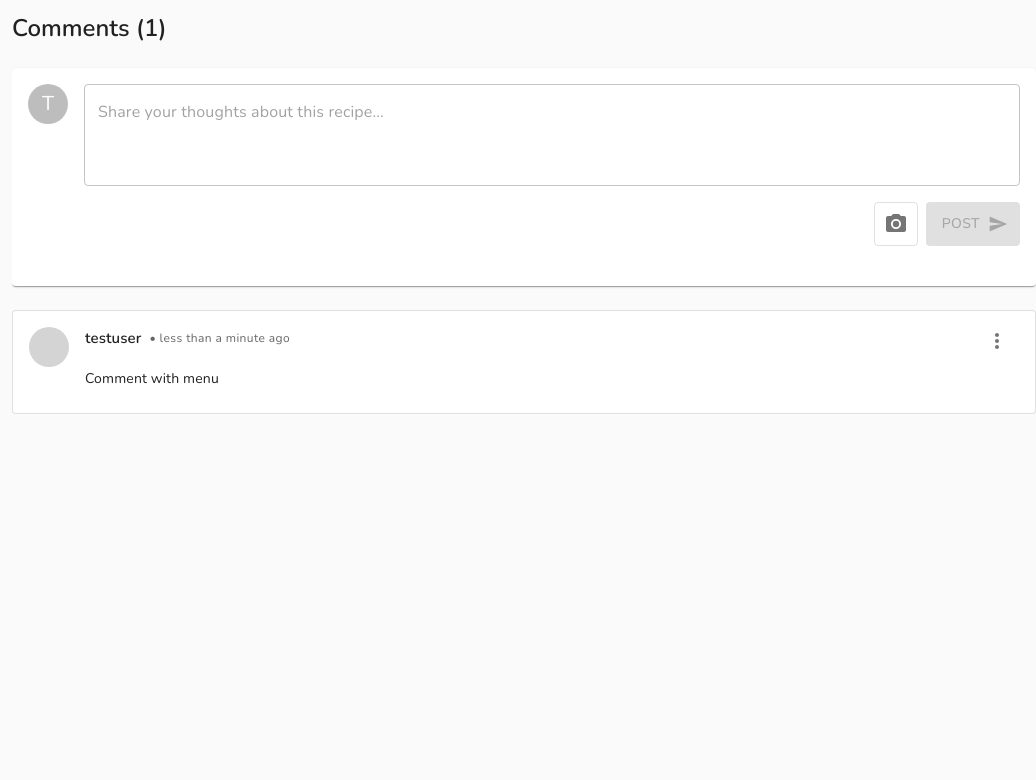
Test: CommentsSection Component › Edit and Delete Comments › should close menu when clicking a menu item - line 488
Expected: the text "Comment with menu" is shown, [85,369,219,388]
Click the button without text in the row of "less than a minute ago".
click(997, 341)  # box [975,319,1019,363]
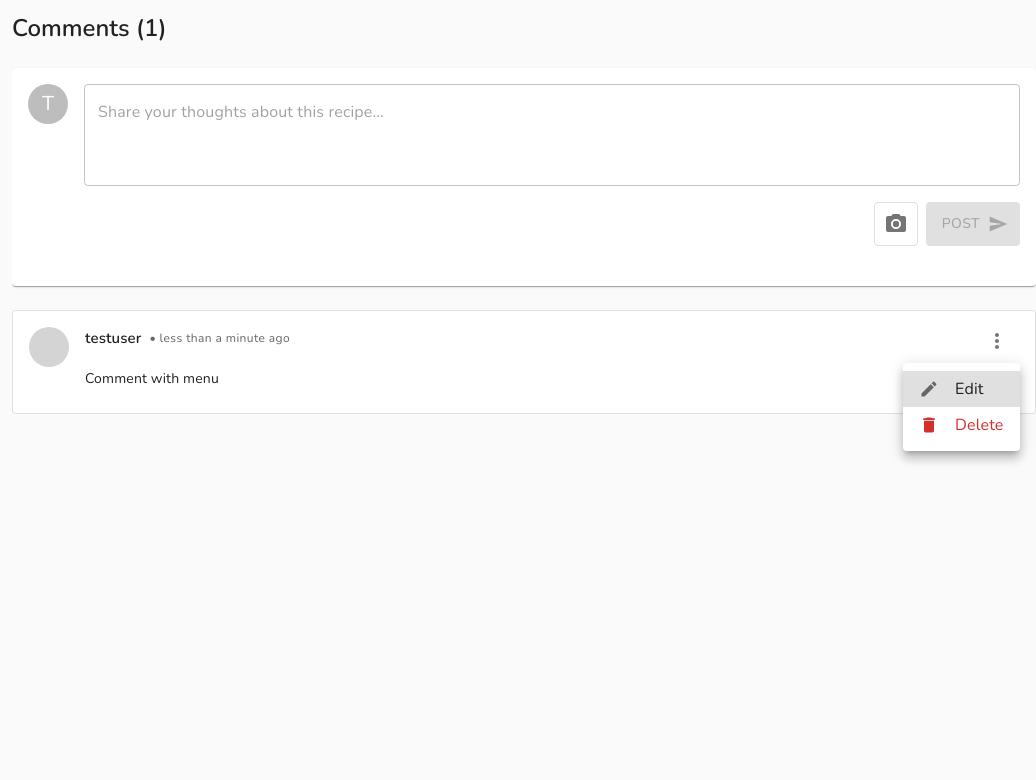
Expected: the menu item "Edit" is shown
Click the menu item "Edit".
click(961, 389)  # box [903,371,1020,407]
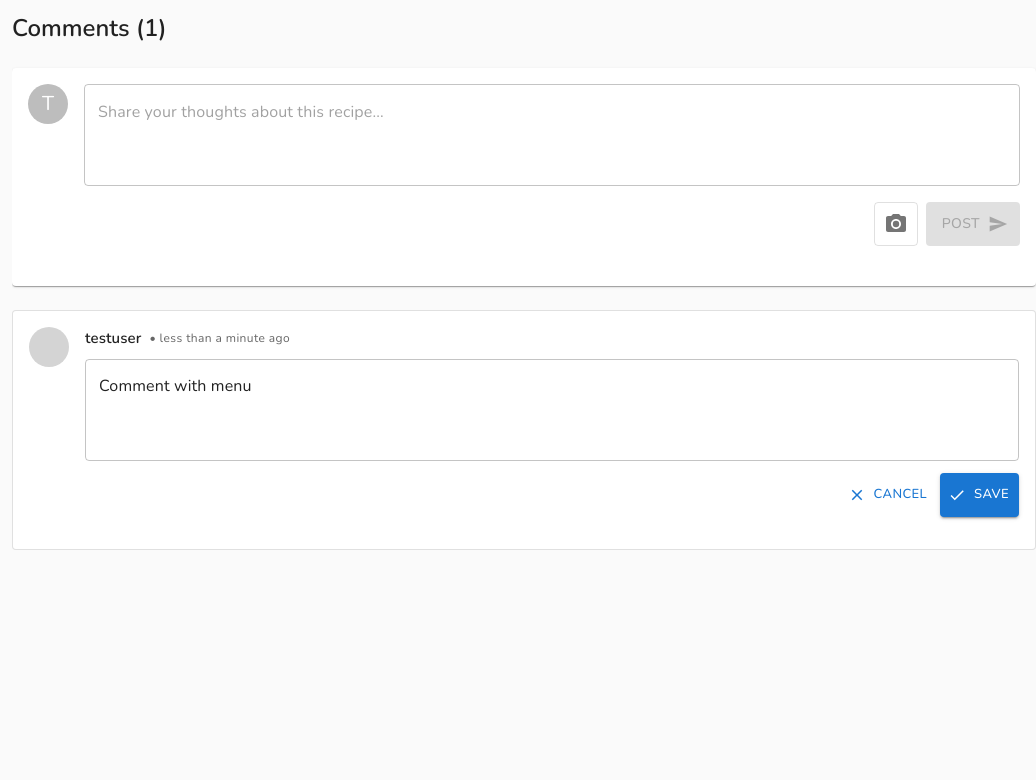
Expected: the text box showing "Comment with menu" is shown, [99,375,1005,444]
